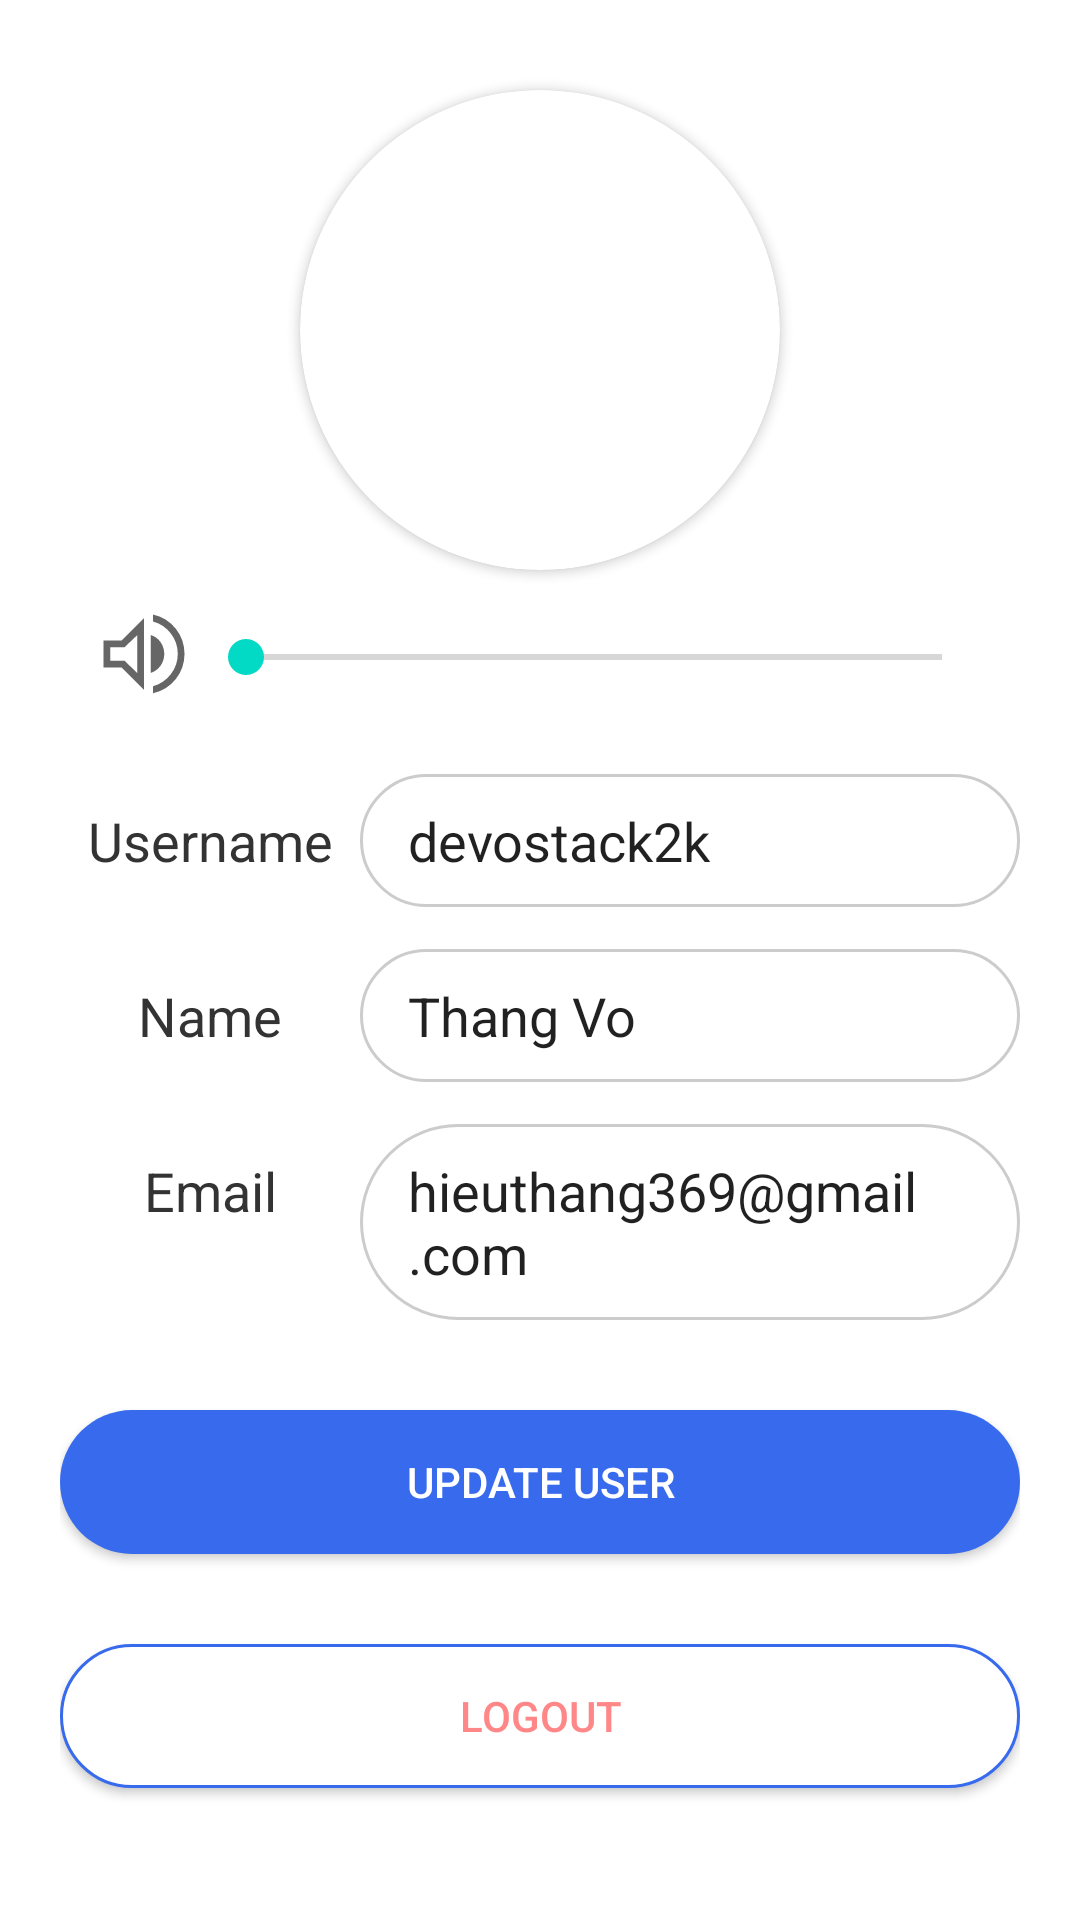

Point at icon controls on the screen. Image size 1080x1920, points as [x,y].
volume: [144,653]
